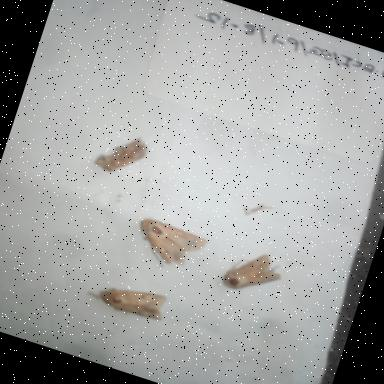abw: (119, 204, 217, 284), (81, 266, 182, 332), (80, 119, 162, 189), (214, 238, 294, 308)
